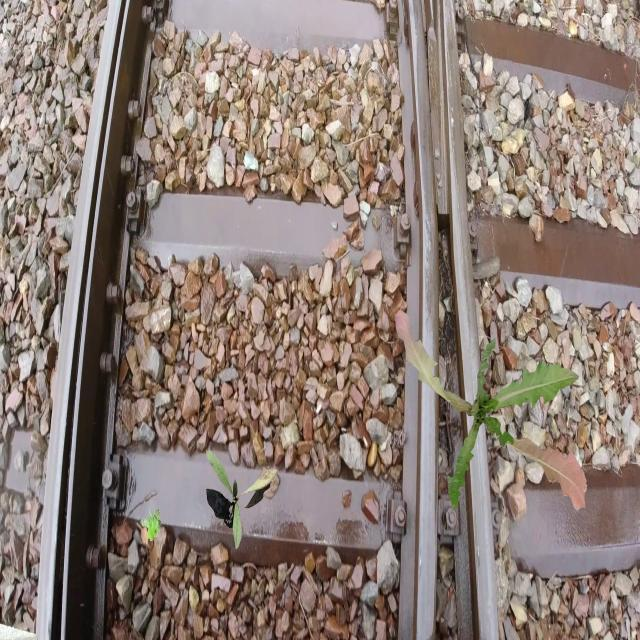Plant: (395, 309, 588, 512), (206, 450, 278, 550), (140, 509, 160, 542)
